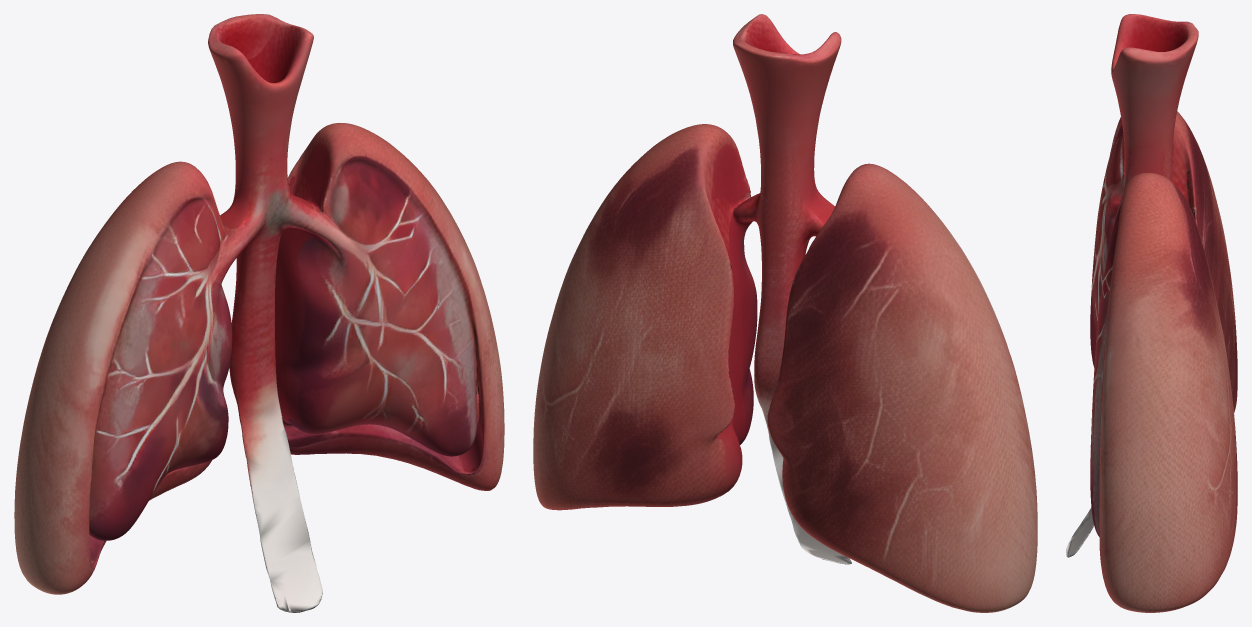
File: vet_v2_path_pulmonary-edema.glb
The picture shows the model from 3 angles, left to right: view 1: azimuth 30°, elevation 25°; view 2: azimuth 150°, elevation 25°; view 3: azimuth 270°, elevation 25°; orthographic projection. The views are drawn at different scales.
Parts seen in each view (by area): view 1: model; view 2: model; view 3: model.
Boxes of the visible parts, x1,y1,x2,y2 form: model: (14,14,504,612); model: (533,14,1037,612); model: (1066,14,1237,612).
Size of the model in its own units: 1.7 by 1.9 by 0.5661.
Materials: 1 (1 with a texture image).
